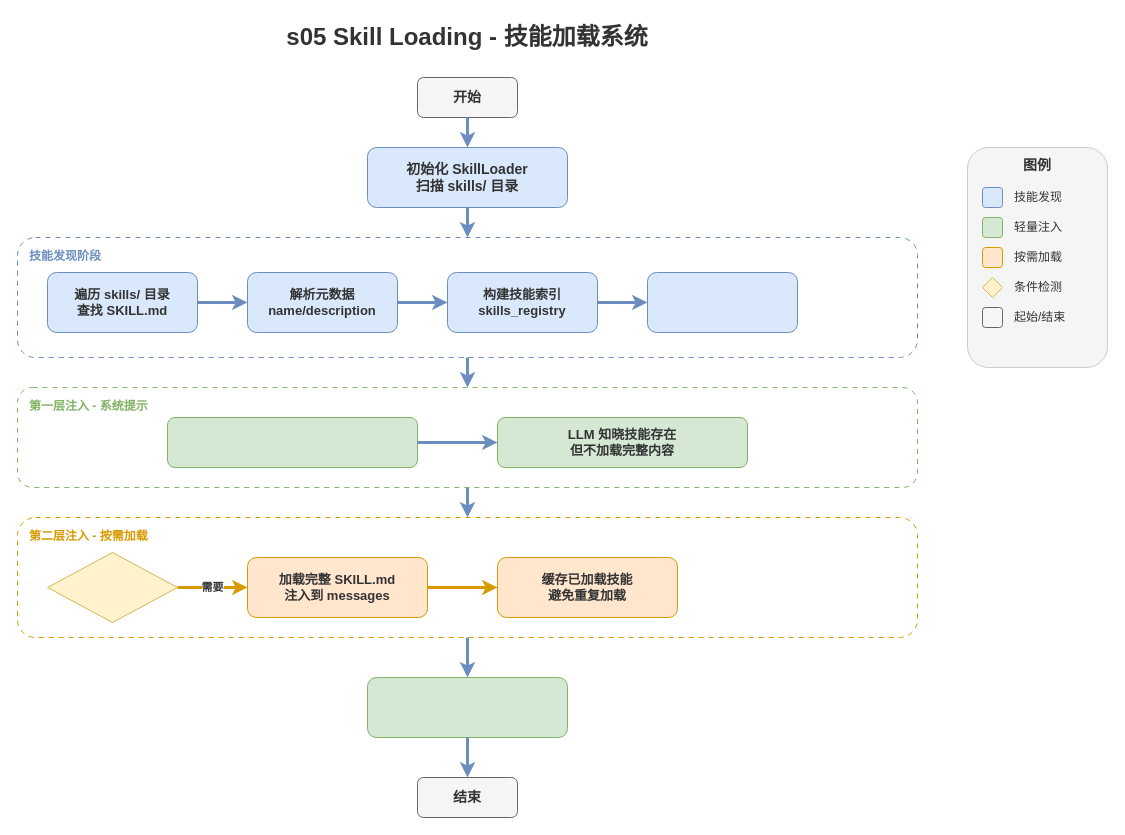
Some shapes in this 1125 by 835 pixel diagram are drawn without their labels. The centre of each missing label's shape, as x and y in pixels:
"存储到 metadata 轻量级索引" goes at [722,302].
"检测技能需求 分析 LLM 输出" goes at [112,587].
"注入元数据到 system_prompt 仅包含 name 和 description" goes at [292,442].
"返回技能列表 供代理使用" goes at [467,707].
